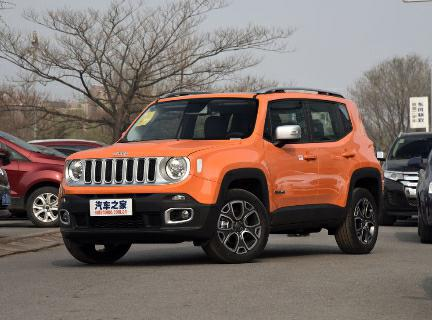Jeep-指南者: (54, 89, 391, 263)
